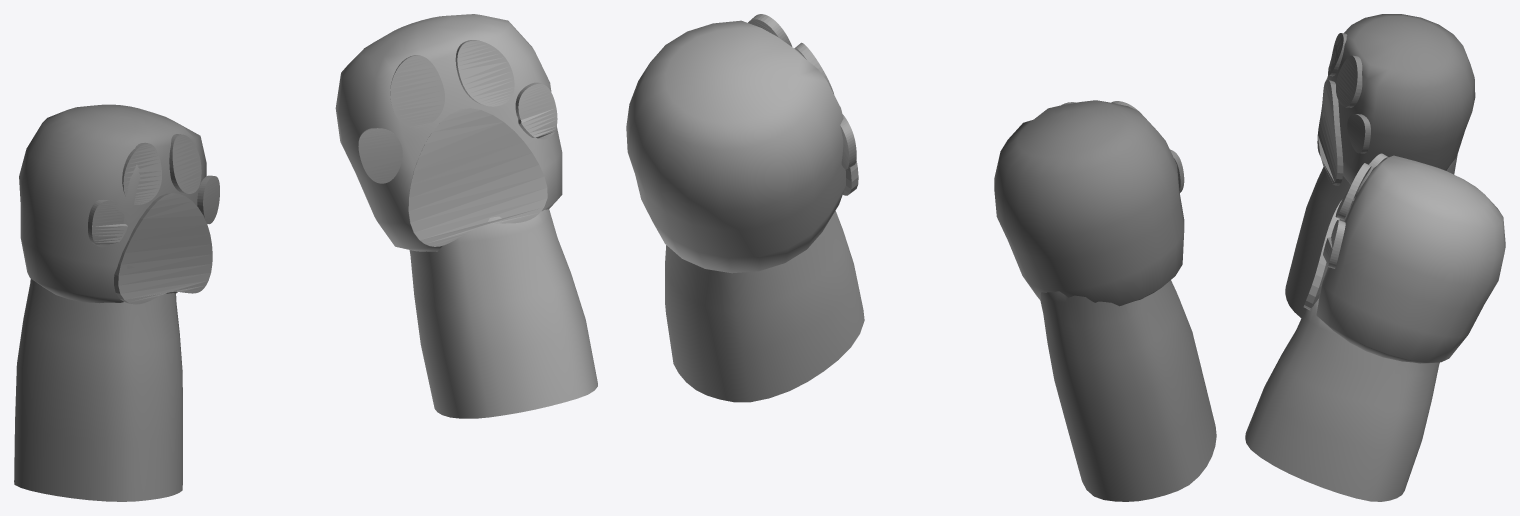
File: PAWS.fbx
3 renders of one model, left to right at view 1: azimuth 30°, elevation 25°; view 2: azimuth 150°, elevation 25°; view 3: azimuth 270°, elevation 25°, orthographic. The views are drawn at different scales.
Visible parts, largest first — view 1: Right_paw, Left_paw; view 2: Right_paw, Left_paw; view 3: Right_paw, Left_paw.
Part boxes in pixels (box(x1,y1,x2,y2)): Right_paw: box(335, 14, 597, 418); Left_paw: box(14, 104, 219, 501); Right_paw: box(626, 14, 864, 402); Left_paw: box(994, 100, 1216, 501); Right_paw: box(1245, 153, 1505, 501); Left_paw: box(1285, 14, 1475, 318).
Bounding box in the file's own units: 16.87 × 11.11 × 8.42.
